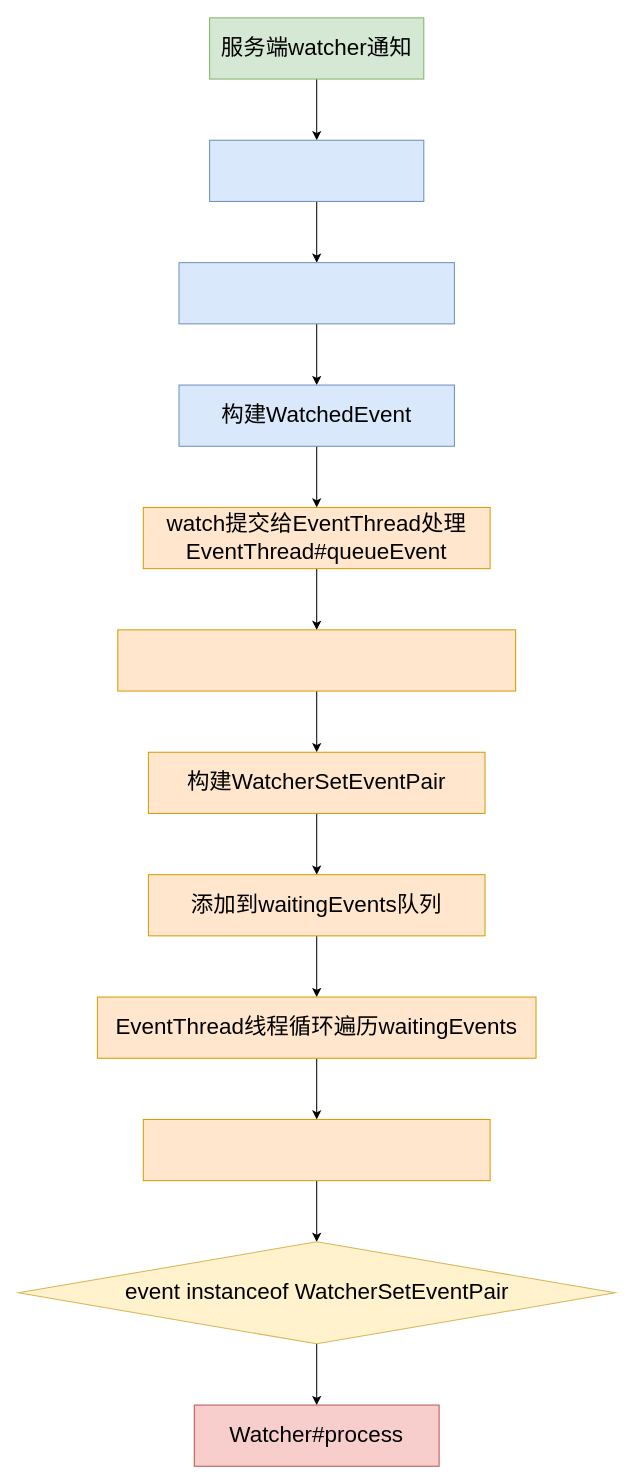
This 632x1484 diagram has some shape labels left out. Here are the shapes that lost their labels. From the top down, the centre of each, then its label:
[316,170]: 客户端接收通知消息
[316,293]: 反序列化WatcherEvent
[316,660]: 从ZKWatchManager取出watcher列表 ZKWatchManager#materialize
[316,1149]: EventThread#processEvent
